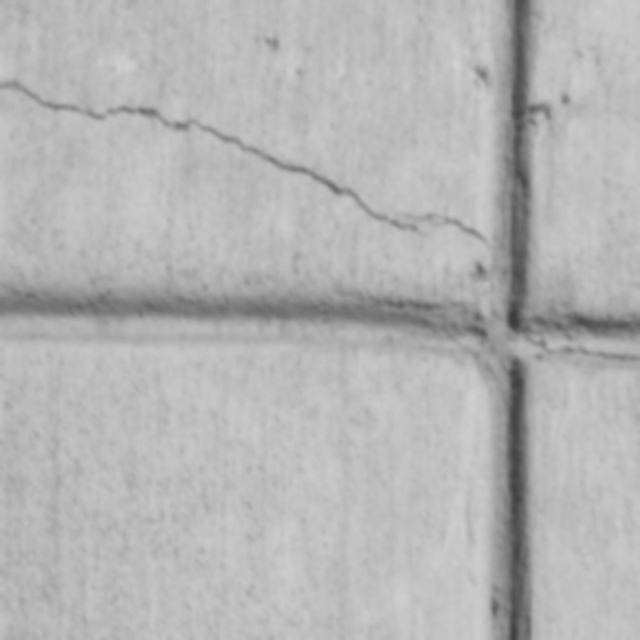SurfaceCrack: (419, 2, 605, 640), (0, 193, 636, 377)
